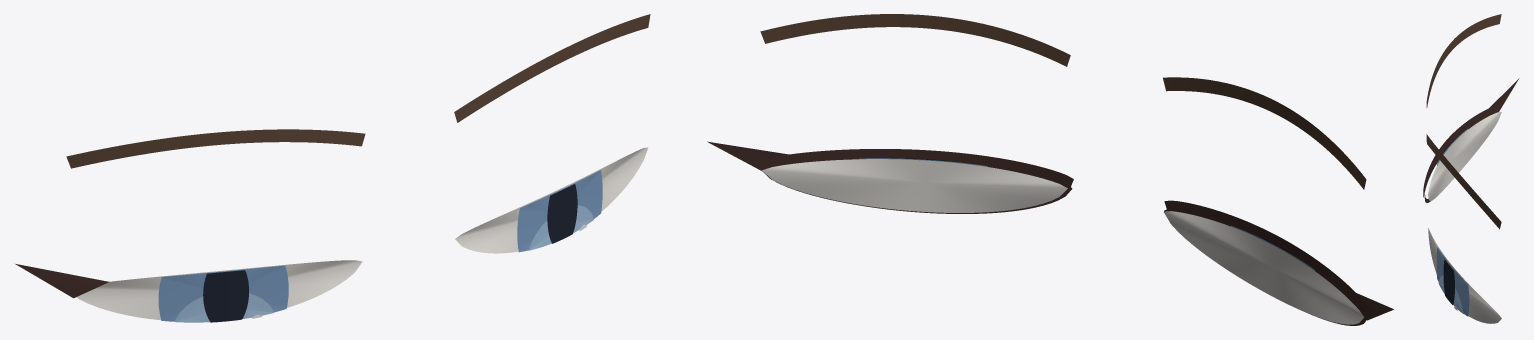
The picture shows the model from 3 angles, left to right: view 1: azimuth 30°, elevation 25°; view 2: azimuth 150°, elevation 25°; view 3: azimuth 270°, elevation 25°; orthographic projection. The views are drawn at different scales.
Parts seen in each view (by area): view 1: Eye_White_-1, Eyebrow_-1, Eye_White_1, Eye_Iris_-1, Eyebrow_1, Eye_Pupil_-1, Eye_Iris_1, Eye_Pupil_1, Eye_LashWing_-1, Eye_Iris_Light_-1, Eye_Iris_Light_1; view 2: Eye_White_1, Eye_White_-1, Eyebrow_1, Eye_UpperLid_1, Eyebrow_-1, Eye_UpperLid_-1, Eye_LashWing_1, Eye_LowerLid_1; view 3: Eye_White_-1, Eye_White_1, Eyebrow_-1, Eyebrow_1, Eye_UpperLid_-1, Eye_Iris_1, Eye_Pupil_1, Eye_Iris_Light_1, Eye_LashWing_-1.
Part boxes in pixels (<box>): Eye_White_-1: <box>76,260,362,320</box>; Eyebrow_-1: <box>66,129,365,168</box>; Eye_White_1: <box>455,147,648,253</box>; Eye_Iris_-1: <box>158,265,288,321</box>; Eyebrow_1: <box>454,14,650,122</box>; Eye_Pupil_-1: <box>203,270,248,322</box>; Eye_Iris_1: <box>517,170,602,252</box>; Eye_Pupil_1: <box>547,184,577,243</box>; Eye_LashWing_-1: <box>15,264,108,298</box>; Eye_Iris_Light_-1: <box>175,293,274,322</box>; Eye_Iris_Light_1: <box>529,205,593,250</box>; Eye_White_1: <box>762,159,1067,212</box>; Eye_White_-1: <box>1164,211,1364,324</box>; Eyebrow_1: <box>760,14,1070,66</box>; Eye_UpperLid_1: <box>761,149,1073,186</box>; Eyebrow_-1: <box>1163,77,1366,189</box>; Eye_UpperLid_-1: <box>1164,200,1369,315</box>; Eye_LashWing_1: <box>707,141,788,171</box>; Eye_LowerLid_1: <box>761,167,1072,213</box>; Eye_White_-1: <box>1428,112,1501,200</box>; Eye_White_1: <box>1428,228,1501,323</box>; Eyebrow_-1: <box>1426,14,1501,107</box>; Eyebrow_1: <box>1426,134,1501,229</box>; Eye_UpperLid_-1: <box>1423,105,1498,197</box>; Eye_Iris_1: <box>1436,247,1469,316</box>; Eye_Pupil_1: <box>1443,259,1454,304</box>; Eye_Iris_Light_1: <box>1438,275,1463,313</box>; Eye_LashWing_-1: <box>1489,78,1519,111</box>.
Bounding box in the file's own units: 0.418 × 0.1154 × 0.0723.
